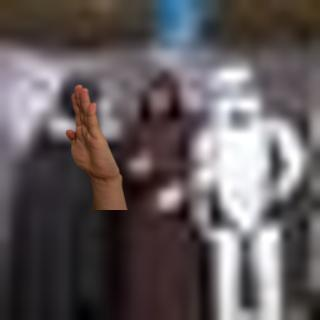RIGHT: (58, 82, 127, 189)
